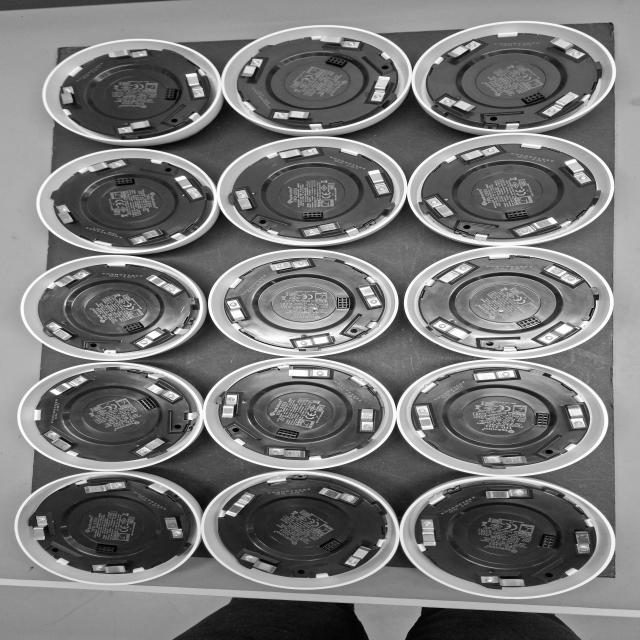yaysiz: (46, 372, 96, 398), (558, 157, 595, 186), (536, 321, 578, 346), (540, 262, 583, 286), (221, 492, 257, 520), (165, 175, 205, 200), (359, 166, 391, 197), (542, 91, 580, 117), (515, 216, 562, 237), (314, 484, 361, 505), (240, 552, 282, 575), (454, 144, 502, 164), (546, 36, 587, 59), (430, 320, 473, 341), (144, 272, 183, 295), (464, 368, 520, 384), (438, 262, 475, 286), (419, 518, 444, 552), (52, 268, 92, 289), (353, 280, 383, 308), (264, 258, 313, 275), (143, 382, 184, 402), (367, 75, 394, 104), (42, 430, 76, 453), (413, 404, 439, 434), (437, 95, 478, 114), (425, 196, 457, 220), (80, 480, 128, 496), (478, 574, 529, 589), (160, 513, 188, 540), (344, 542, 374, 567), (31, 514, 55, 545), (281, 366, 334, 380), (129, 227, 168, 246), (446, 40, 483, 60), (276, 147, 322, 163), (238, 56, 266, 82), (137, 326, 170, 348), (316, 35, 364, 50), (135, 436, 169, 457), (476, 488, 530, 501), (54, 204, 83, 228), (226, 299, 252, 325), (294, 334, 339, 349), (564, 402, 588, 430), (184, 72, 207, 101), (116, 119, 155, 136), (45, 322, 78, 342), (302, 221, 343, 237), (84, 159, 127, 174), (266, 446, 312, 460), (354, 404, 376, 433), (58, 85, 83, 110), (105, 48, 153, 61), (572, 527, 594, 555), (484, 453, 531, 466), (234, 188, 258, 213), (223, 392, 243, 422), (90, 563, 138, 575), (270, 110, 312, 121)
